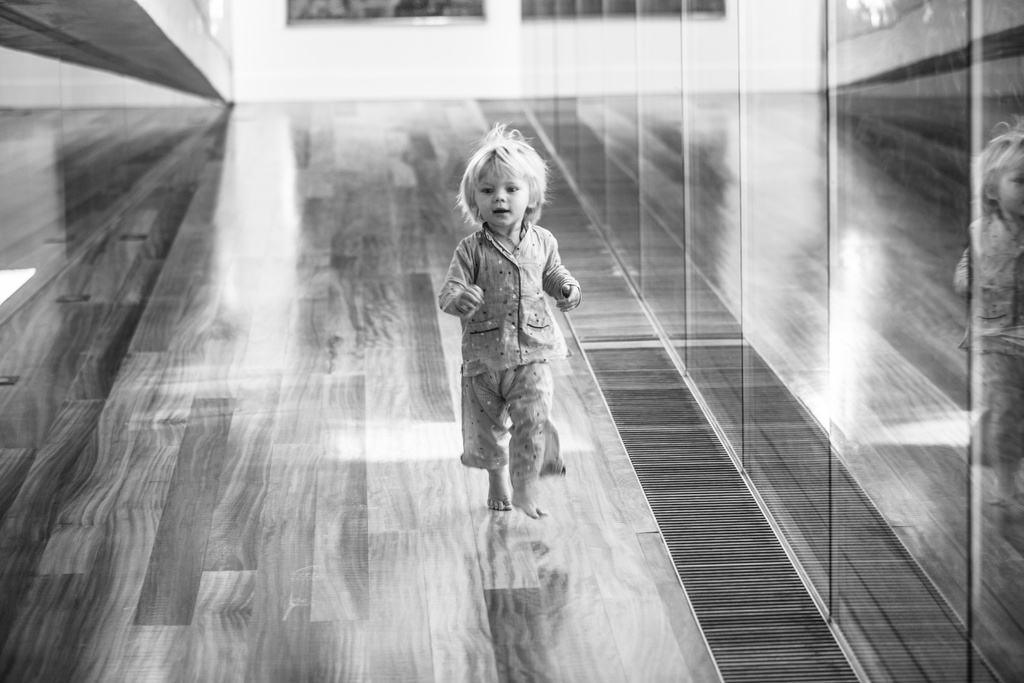Human-face: (474, 163, 526, 224)
